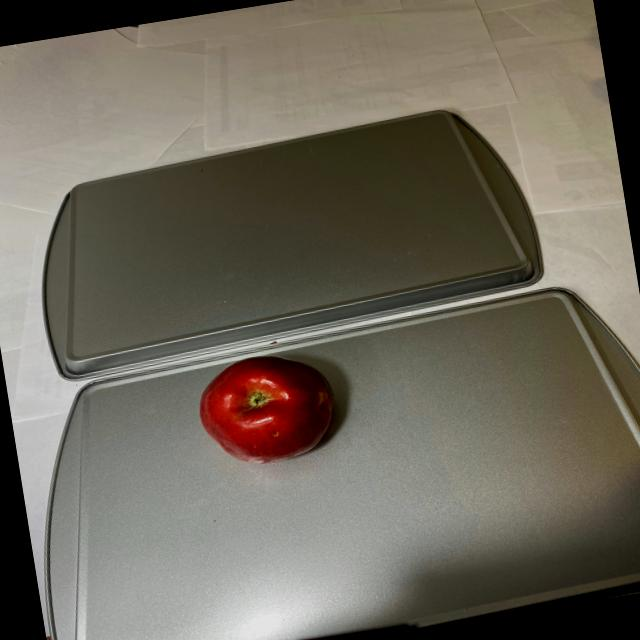apple: (193, 346, 342, 474)
